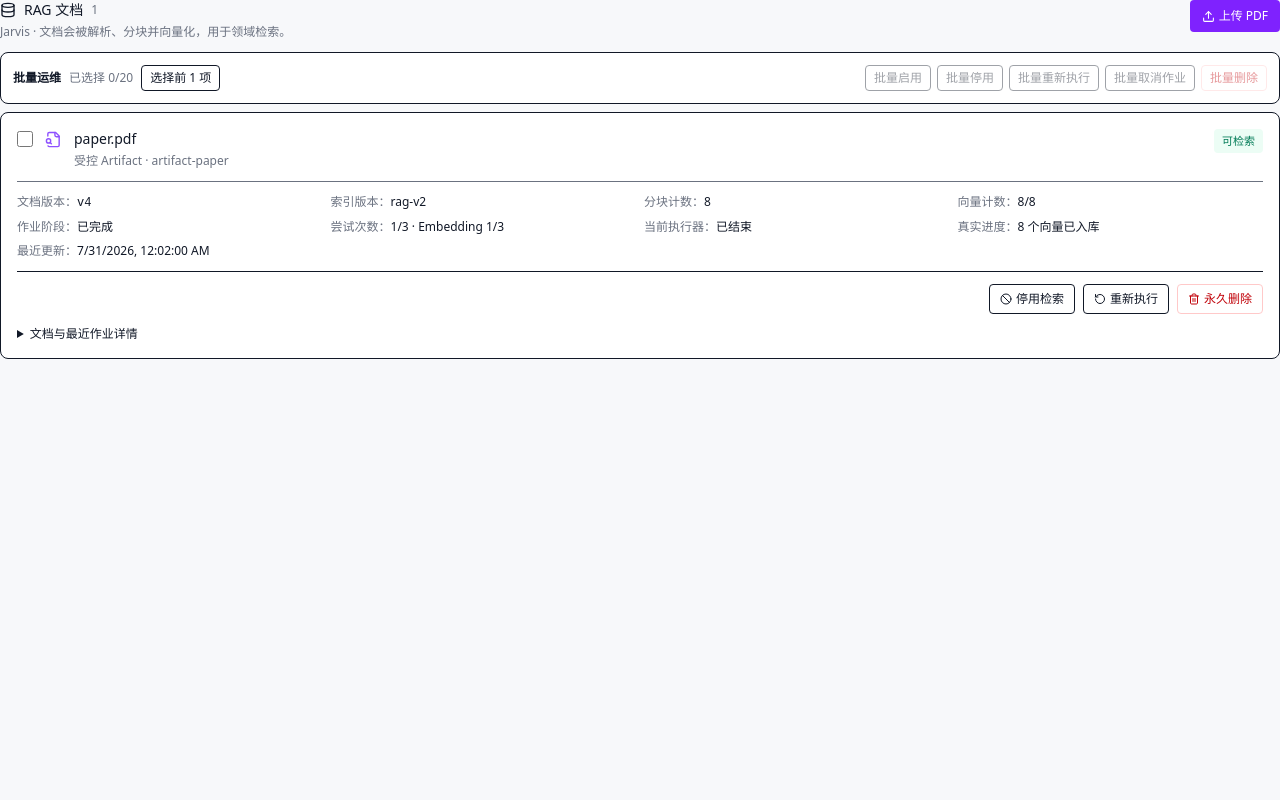
Test case: RagDocumentLibrary › makes the per-document L4 boundary explicit before batch delete
The image size is (1280, 800).
Click the checkbox named "选择 paper.pdf": (25, 139) x1=17 y1=131 x2=33 y2=147
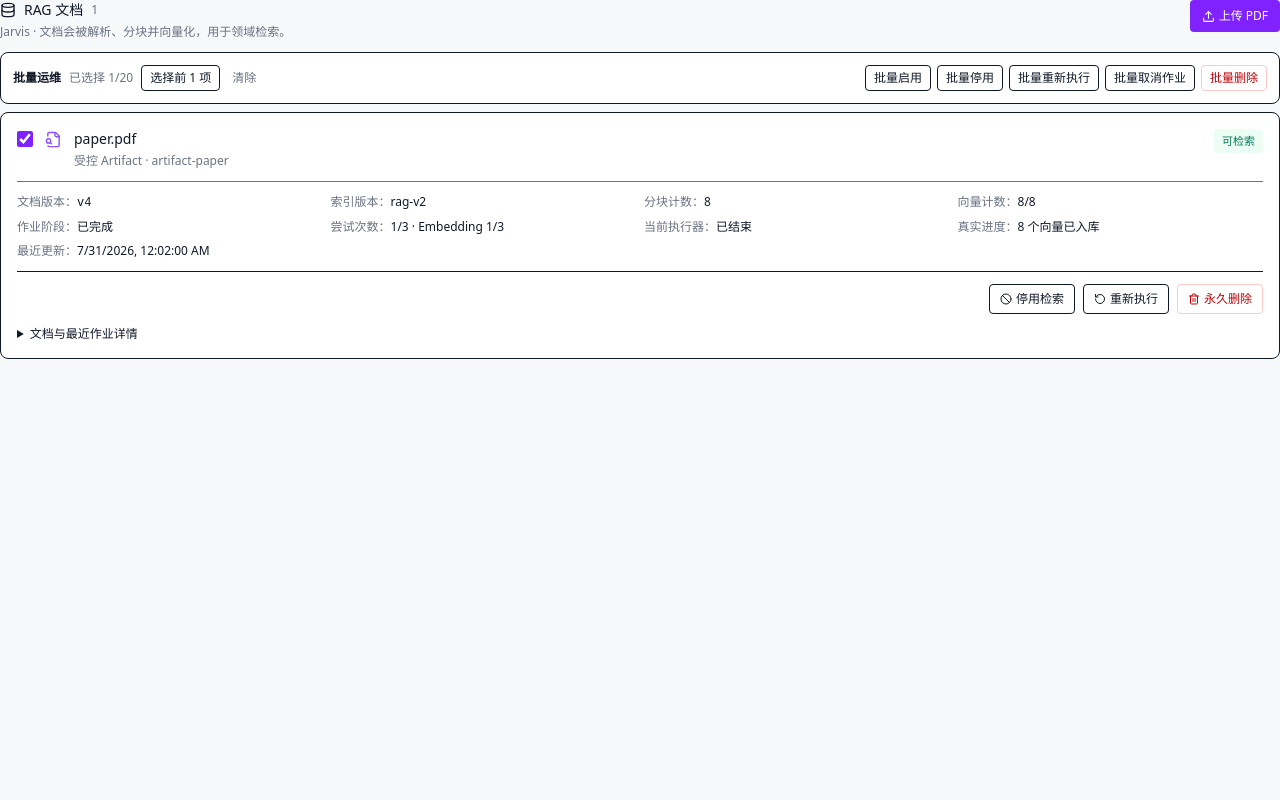
Click the button "批量删除": (1234, 78) x1=1201 y1=65 x2=1267 y2=91
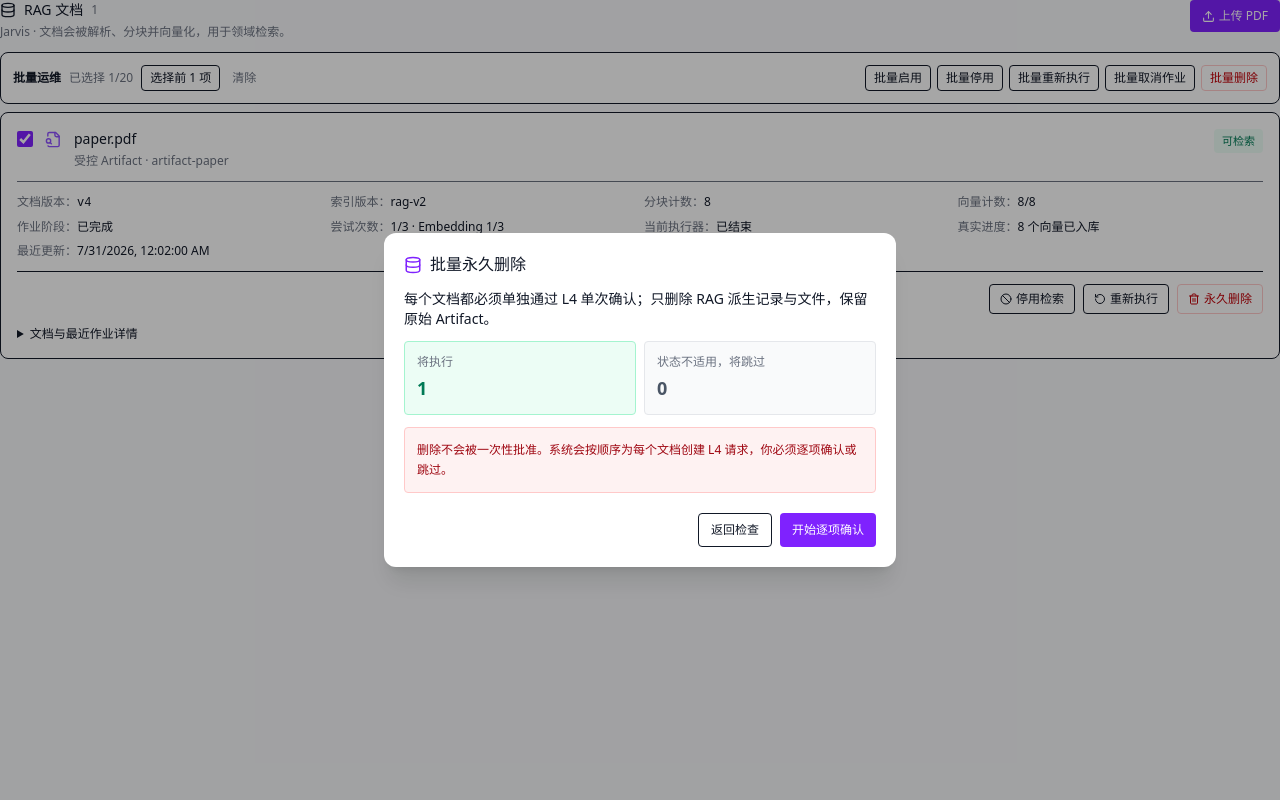
Expected: the dialog shows "每个文档都必须单独通过 L4 单次确认", x1=404 y1=289 x2=868 y2=328
Expected: the dialog shows "逐项确认或跳过", x1=417 y1=441 x2=856 y2=478
